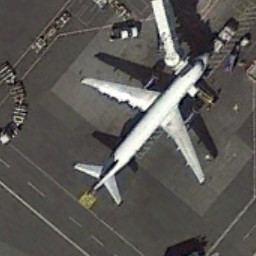Airplane: (71, 47, 216, 214)
